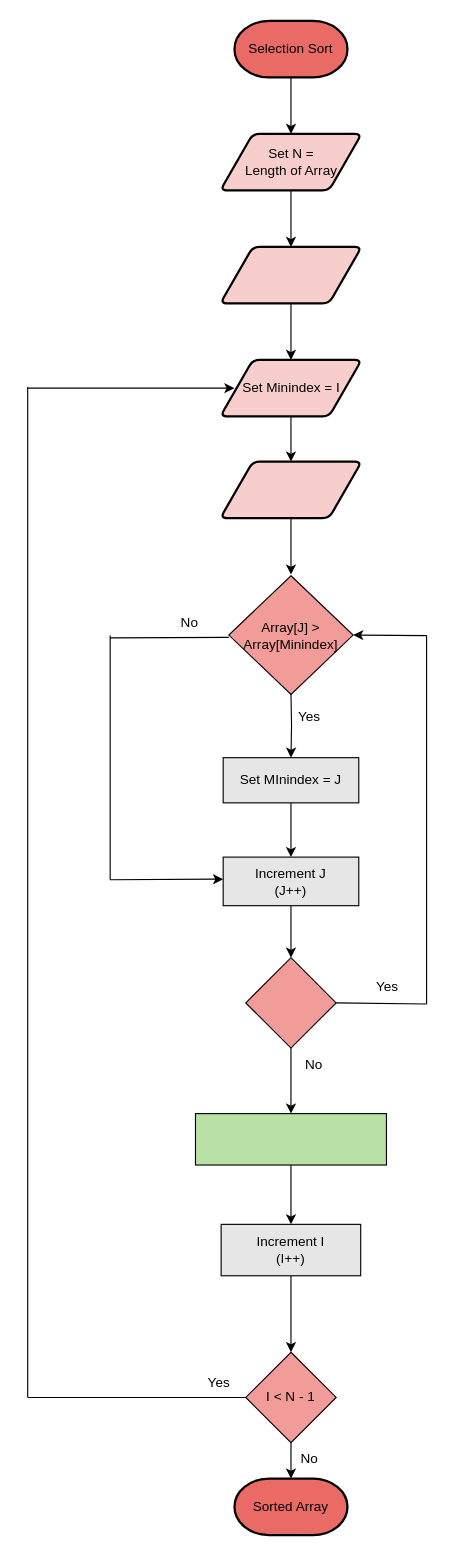
This 455x1555 diagram has some shape labels left out. Each missing label, with the centre of its shape:
J < N: (x=290, y=1002)
Set I = 0: (x=290, y=274)
Set J = I + 1: (x=290, y=489)
Swap Array[I] and Array[Minindex]: (x=290, y=1138)
